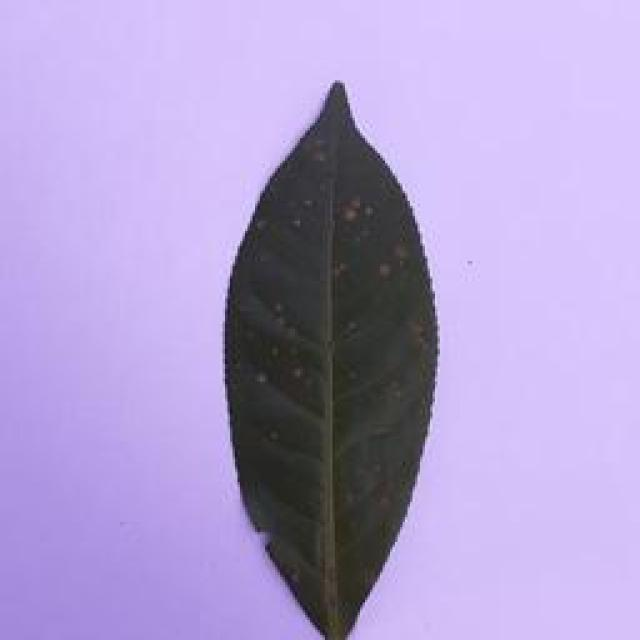Algal Leaf Spot: (220, 72, 441, 640)
